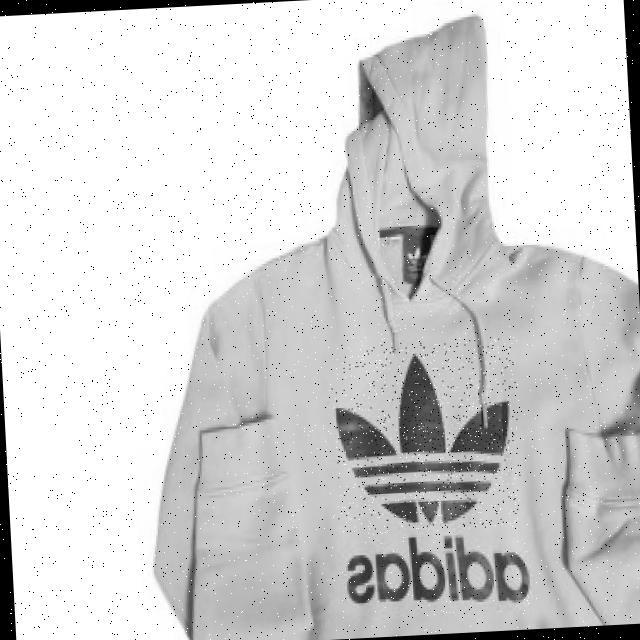Adidas: (329, 336, 523, 536), (402, 239, 431, 268)
